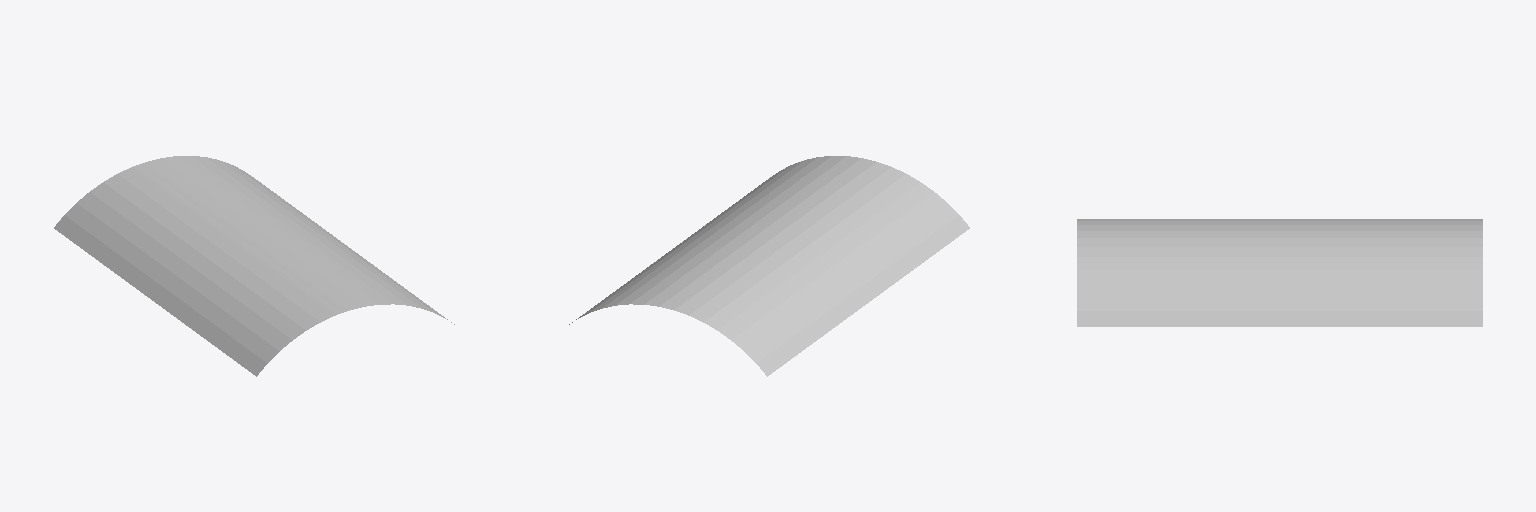
The model's file is ProjectionPlanesBlendedRotated.obj.
3 renders of one model, left to right at view 1: azimuth 30°, elevation 25°; view 2: azimuth 150°, elevation 25°; view 3: azimuth 270°, elevation 25°, orthographic.
Visible parts, largest first — view 1: mesh7; view 2: mesh7; view 3: mesh7.
Part boxes in pixels (x1,y1,x2,y2): mesh7: (54,156,454,376); mesh7: (569,156,969,376); mesh7: (1077,219,1482,326).
Bounding box in the file's own units: 0.0287 × 0.0059 × 0.05.